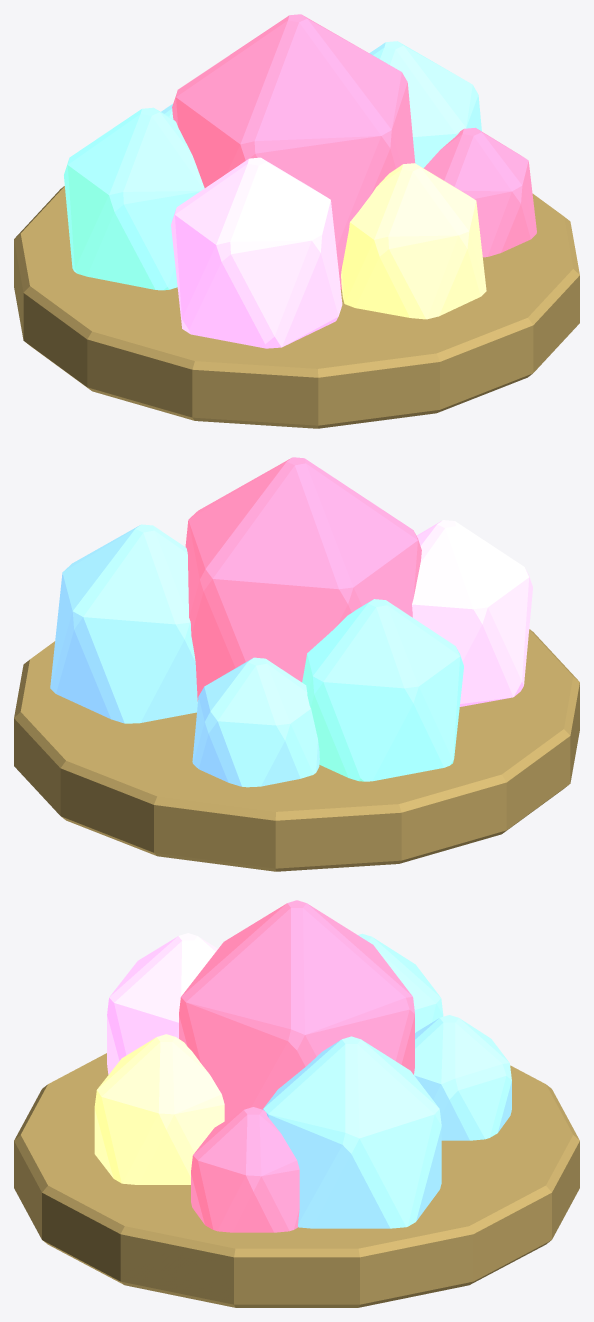
Rendered from dgn_gems.glb.
3 views of the same model, one above another, from view 1: azimuth 30°, elevation 25°; view 2: azimuth 150°, elevation 25°; view 3: azimuth 270°, elevation 25° (orthographic).
Parts seen in each view (by area): view 1: dgn_gems; view 2: dgn_gems; view 3: dgn_gems.
Part boxes in pixels (x1,y1,x2,y2): dgn_gems: [14, 14, 579, 428]; dgn_gems: [14, 457, 579, 871]; dgn_gems: [14, 900, 579, 1307].
Bounding box in the file's own units: 0.507 × 0.3097 × 0.52.
